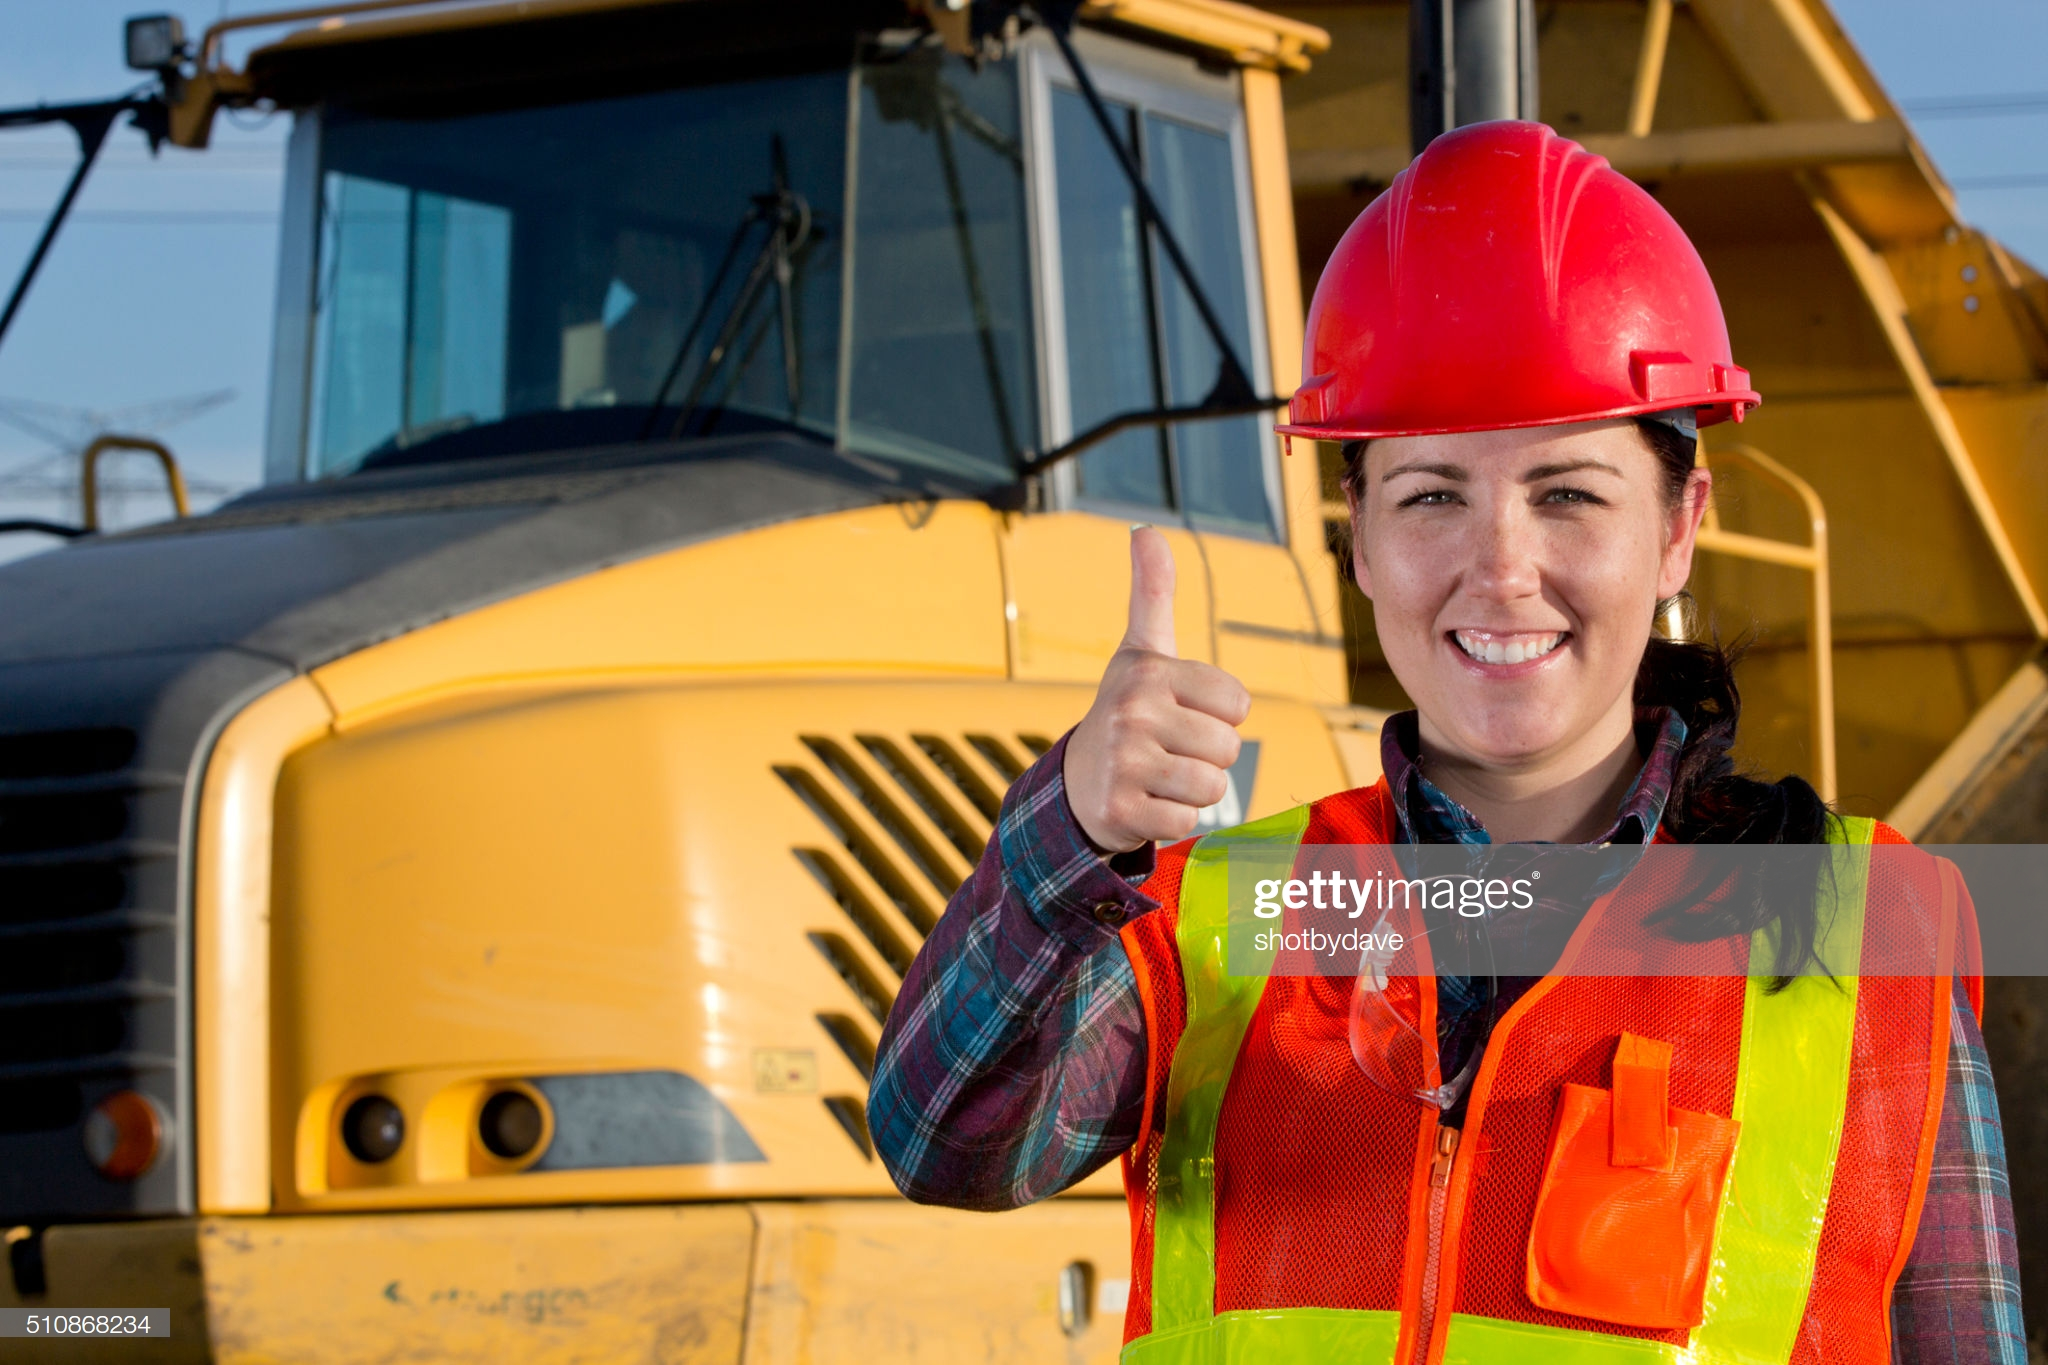thumbsup: (1092, 521, 1252, 838)
